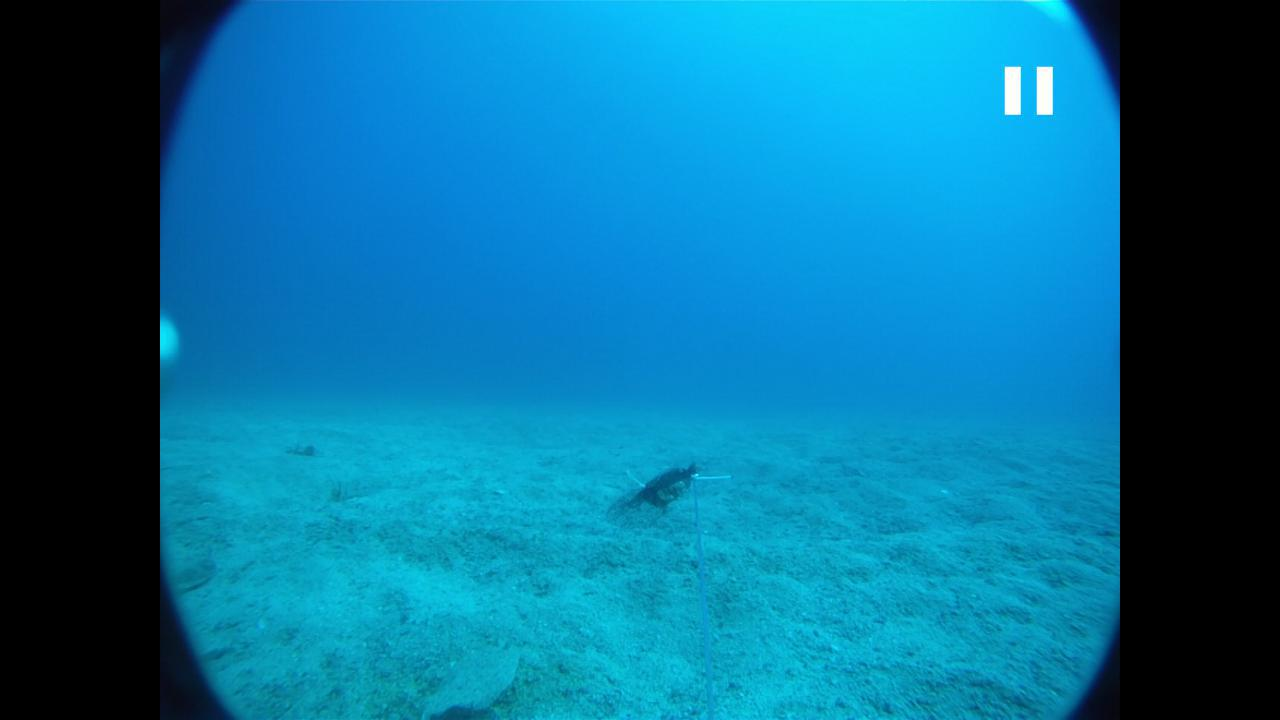bothus: (409, 642, 526, 719)
